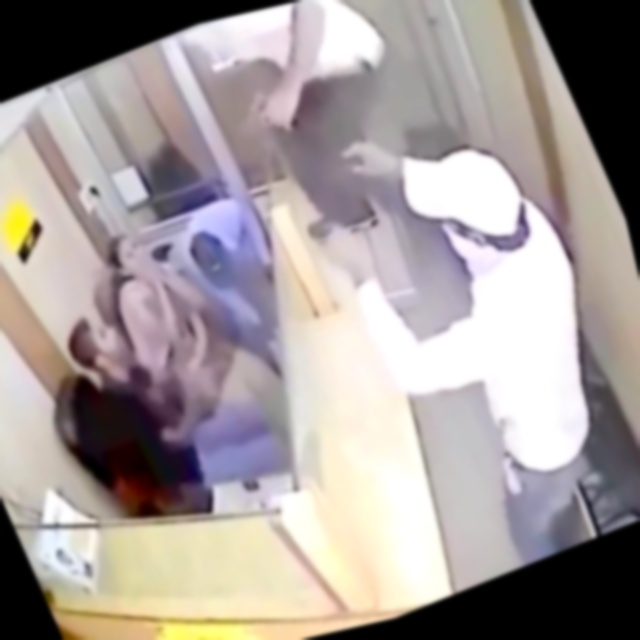gun: (224, 77, 300, 155)
